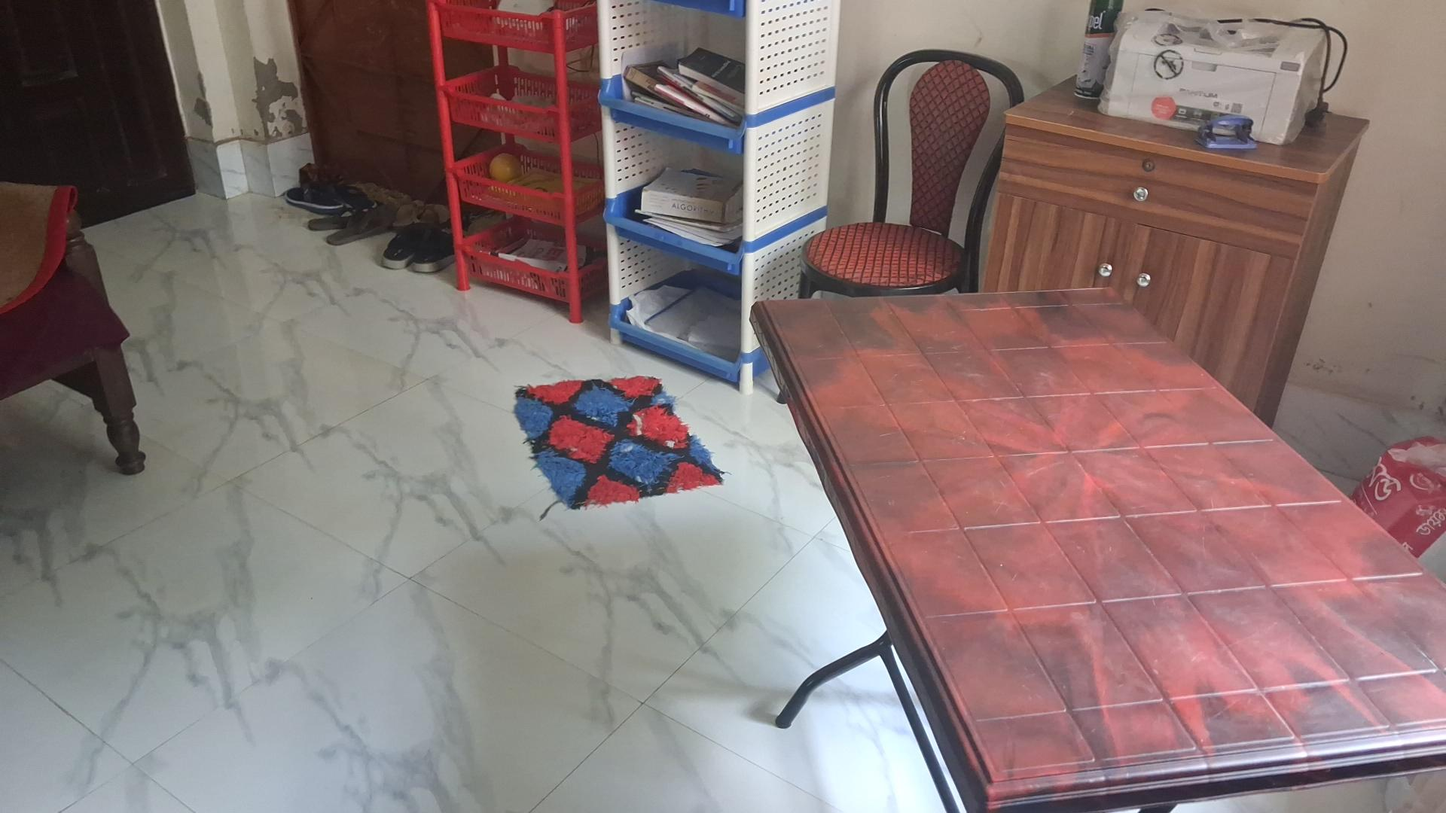Book: (637, 162, 747, 214)
Chair: (798, 49, 1025, 299), (0, 182, 146, 476)
Floor Mat: (507, 377, 721, 502)
Footwear: (378, 221, 463, 272), (308, 213, 393, 244), (279, 186, 373, 212)
Rack: (598, 3, 838, 396), (428, 5, 607, 323)
Table: (752, 281, 1446, 813)
